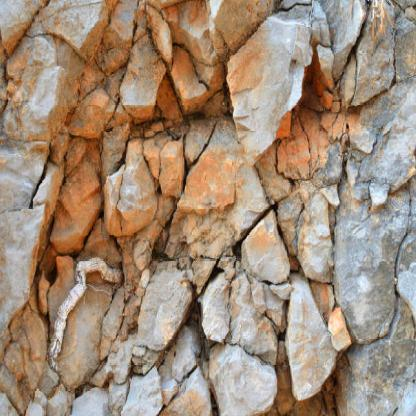Sedimentary_Limestone: (166, 113, 274, 281), (220, 3, 319, 152), (331, 166, 409, 338), (0, 136, 58, 342), (42, 264, 134, 378), (283, 287, 344, 399), (97, 123, 154, 240), (193, 342, 277, 415), (286, 194, 337, 292), (234, 196, 287, 288)
